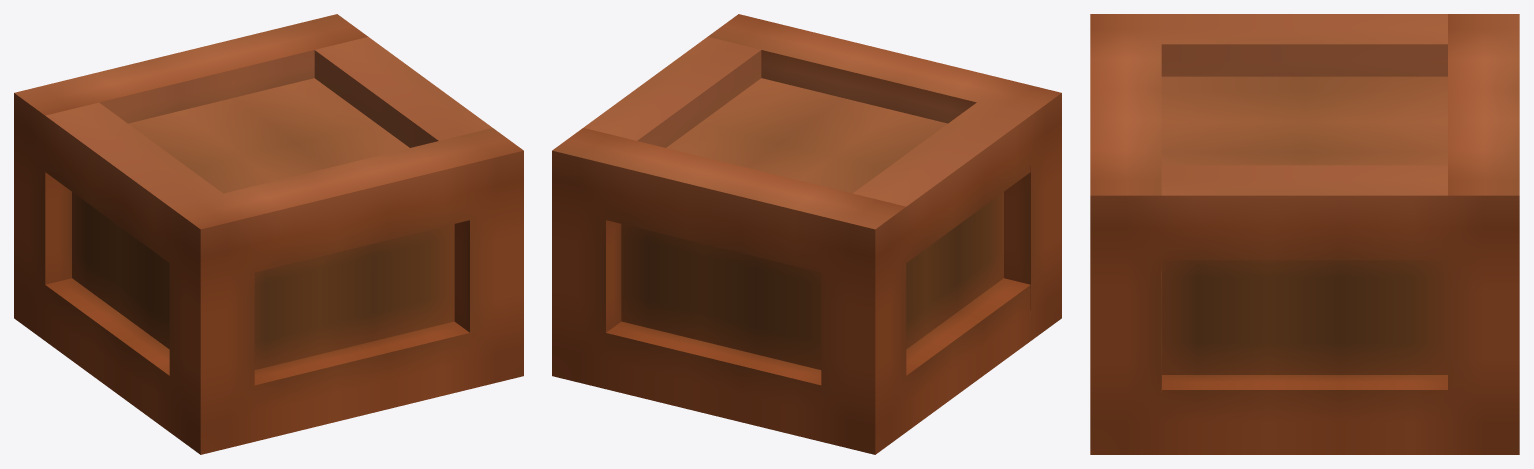
Rendered from create.obj.
3 views of the same model, side by side, from view 1: azimuth 30°, elevation 25°; view 2: azimuth 150°, elevation 25°; view 3: azimuth 270°, elevation 25° (orthographic). The views are drawn at different scales.
Visible parts, largest first — view 1: Default; view 2: Default; view 3: Default.
Boxes of the visible parts, left/top/right/bottom form: Default: left=14, top=14, right=523, bottom=454; Default: left=552, top=14, right=1061, bottom=454; Default: left=1090, top=14, right=1519, bottom=454.
Size of the model in its own units: 0.75 by 0.5 by 0.75.
